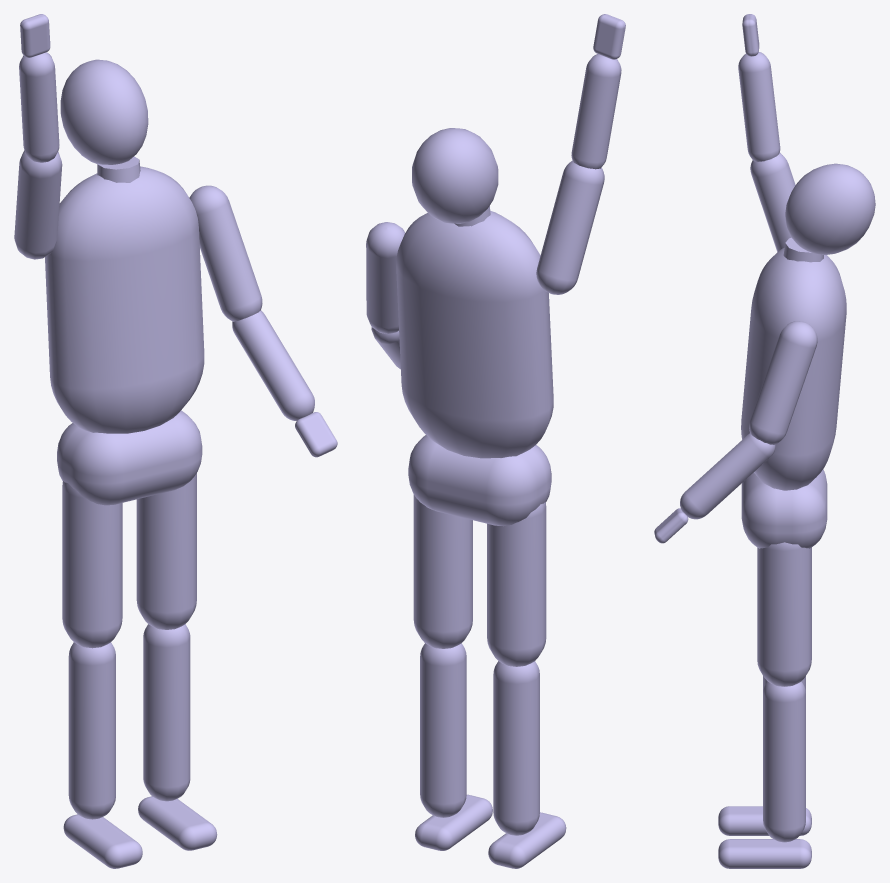
The model's file is mannequin-reach.glb.
3 views of the same model, side by side, from view 1: azimuth 30°, elevation 25°; view 2: azimuth 150°, elevation 25°; view 3: azimuth 270°, elevation 25° (orthographic). The views are drawn at different scales.
Parts seen in each view (by area): view 1: chest, pelvis, thighR, thighL, shinL, shinR, headMesh, upperArmL, upperArmR, foreArmL, foreArmR, footL (+4 smaller); view 2: chest, pelvis, thighR, thighL, shinR, shinL, headMesh, upperArmR, foreArmR, upperArmL, footR, footL (+2 smaller); view 3: chest, thighL, shinL, headMesh, pelvis, upperArmL, foreArmR, foreArmL, footL, upperArmR, footR, handL (+2 smaller).
Boxes of the visible parts, x1,y1,x2,y2 form: chest: (45, 166, 204, 433); pelvis: (57, 410, 202, 505); thighR: (62, 481, 122, 648); thighL: (136, 473, 196, 629); shinL: (143, 624, 190, 801); shinR: (68, 642, 115, 819); headMesh: (60, 59, 148, 164); upperArmL: (189, 185, 262, 321); upperArmR: (14, 150, 62, 259); foreArmL: (232, 310, 314, 420); foreArmR: (19, 52, 59, 162); footL: (138, 796, 217, 850); chest: (396, 211, 553, 458); pelvis: (408, 435, 551, 526); thighR: (487, 502, 546, 666); thighL: (413, 494, 472, 648); shinR: (493, 661, 539, 835); shinL: (420, 643, 466, 817); headMesh: (412, 128, 498, 223); upperArmR: (536, 160, 604, 294); foreArmR: (571, 54, 621, 169); upperArmL: (366, 222, 404, 333); footR: (488, 812, 566, 868); footL: (415, 794, 492, 850); chest: (741, 247, 846, 490); thighL: (757, 542, 811, 686); shinL: (763, 681, 805, 842); headMesh: (785, 163, 875, 254); pelvis: (741, 469, 827, 548); upperArmL: (749, 321, 817, 444); foreArmR: (738, 52, 780, 161); foreArmL: (680, 433, 775, 519); footL: (718, 839, 811, 868); upperArmR: (750, 153, 795, 251); footR: (718, 806, 811, 835); handL: (654, 508, 688, 543).
Size of the model in its own units: 0.7165 by 2.21 by 0.5674.
